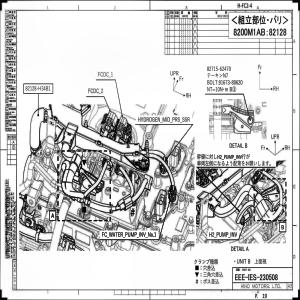PartNumber: (24, 85, 51, 92), (207, 65, 231, 72), (218, 80, 242, 86)
